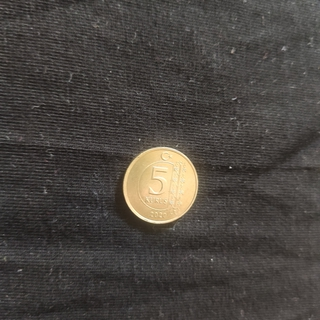5KURUS: (121, 144, 199, 226)
